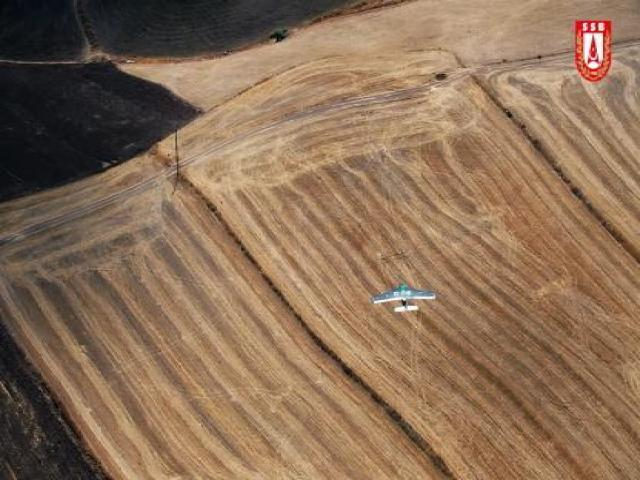uav: (369, 284, 436, 314)
